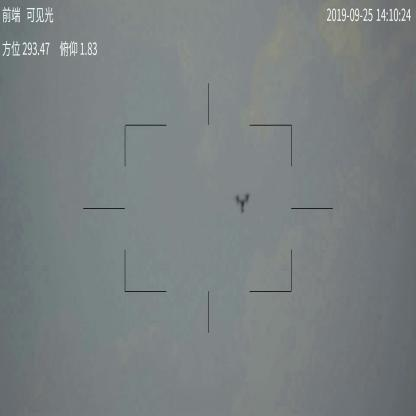uav: (233, 190, 251, 214)
